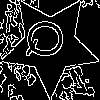Q: (25, 19, 71, 58)
